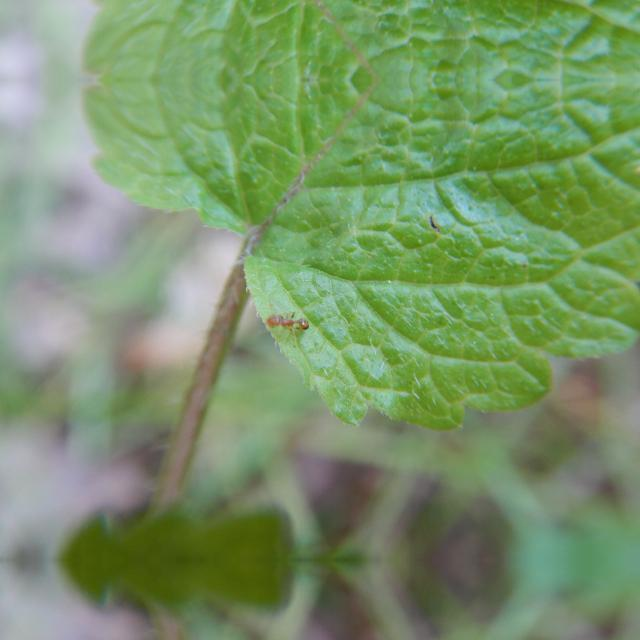Temnothorax: (266, 314, 310, 338)
